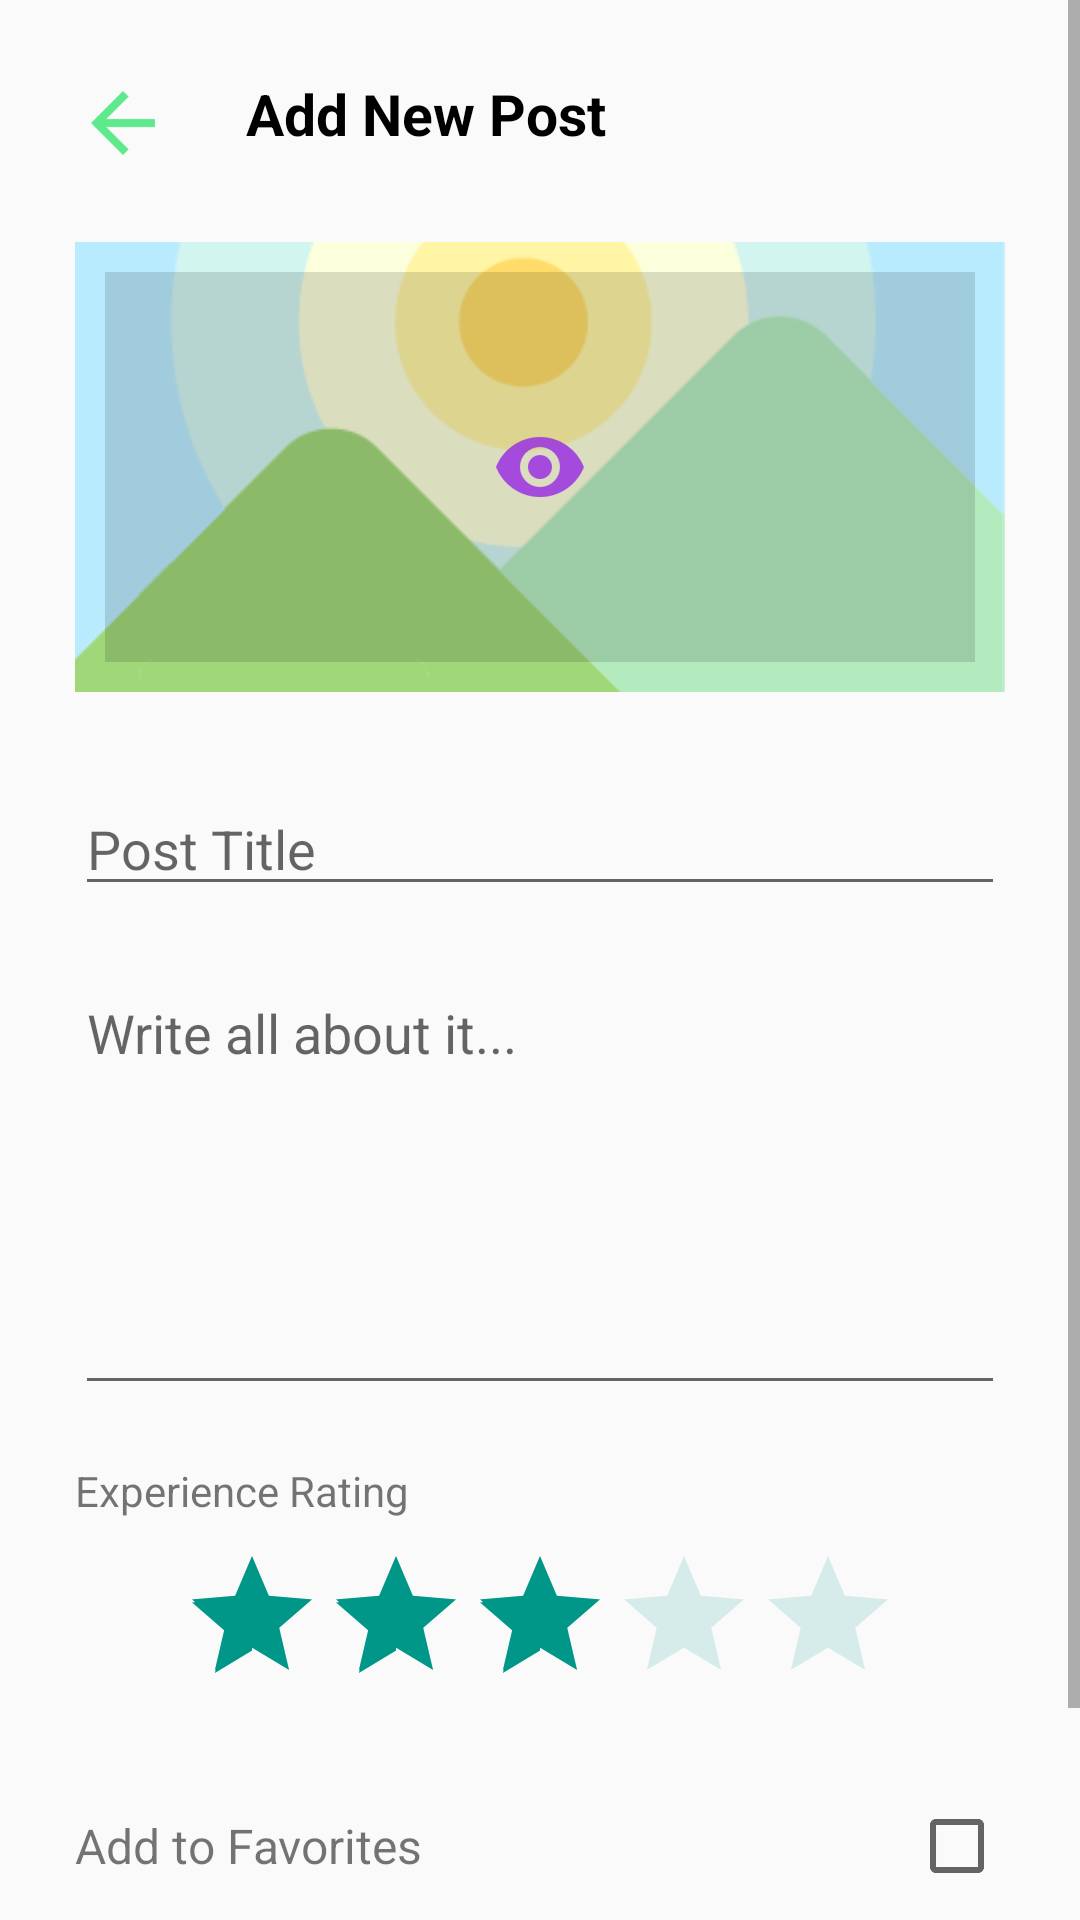

Locate icon controls on the screen. Image size 1080 × 1920, boxes as (x1,y1,x2,y2).
back: (91,91,155,155)
